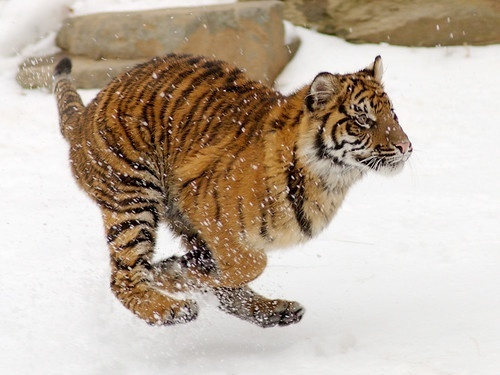tigre: (52, 57, 411, 325)
